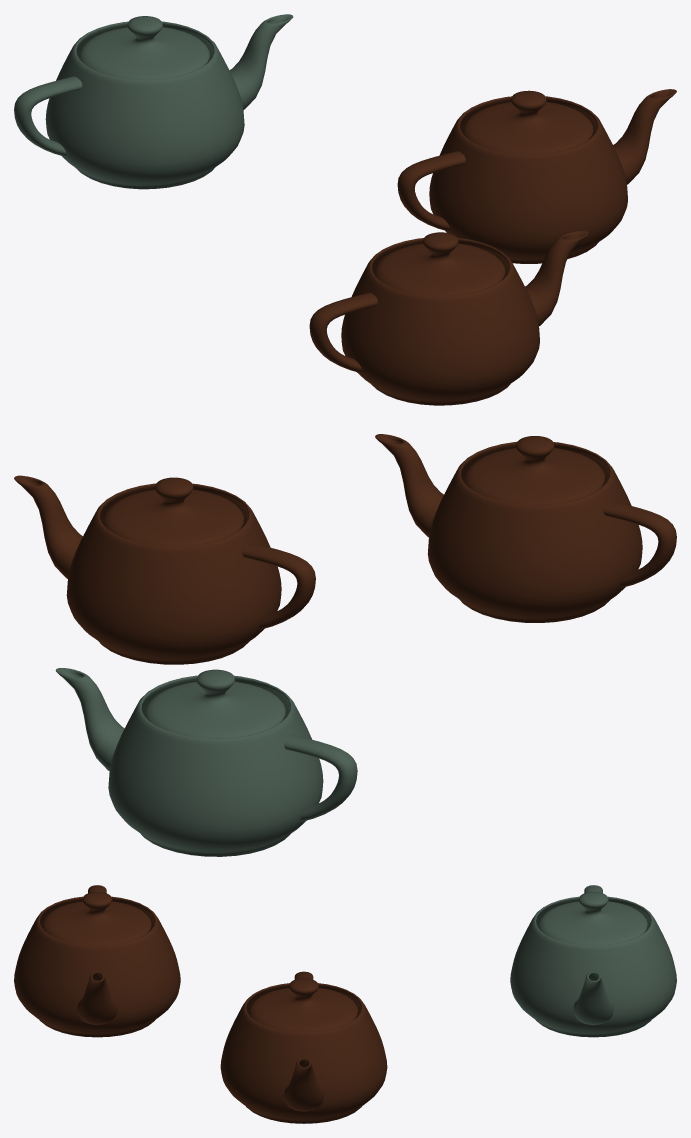
File: ExporterTestScene.fbx
The picture shows the model from 3 angles, top to bottom: view 1: azimuth 30°, elevation 25°; view 2: azimuth 150°, elevation 25°; view 3: azimuth 270°, elevation 25°; orthographic projection. The views are drawn at different scales.
Visible parts, largest first — view 1: Teapot_blue, Teapot_green, Teapot_orange; view 2: Teapot_orange, Teapot_green, Teapot_blue; view 3: Teapot_orange, Teapot_blue, Teapot_green.
Boxes of the visible parts, bbox=[...] form: Teapot_blue: bbox=[309, 230, 588, 405]; Teapot_green: bbox=[14, 14, 293, 189]; Teapot_orange: bbox=[397, 89, 676, 263]; Teapot_orange: bbox=[14, 475, 315, 664]; Teapot_green: bbox=[55, 668, 357, 856]; Teapot_blue: bbox=[375, 434, 676, 622]; Teapot_orange: bbox=[220, 971, 387, 1123]; Teapot_blue: bbox=[14, 885, 180, 1037]; Teapot_green: bbox=[510, 885, 676, 1037].
Bounding box in the file's own units: 158 × 43.81 × 221.
